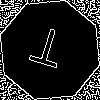T: (25, 25, 68, 78)
